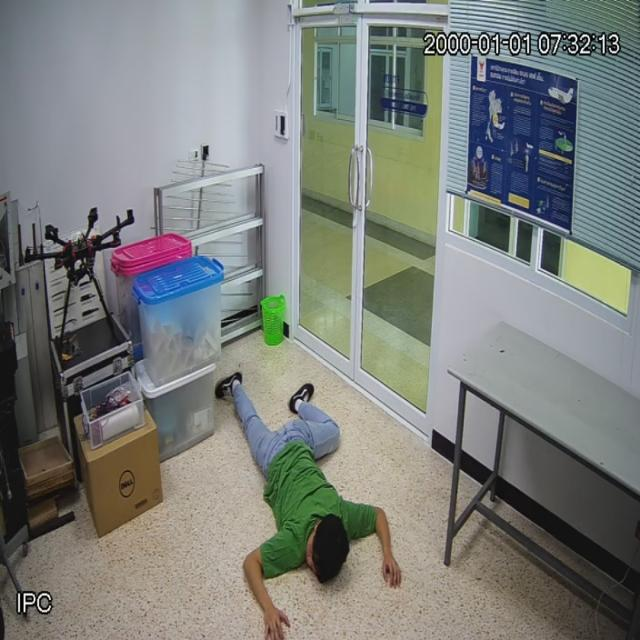fall: (217, 378, 393, 640)
